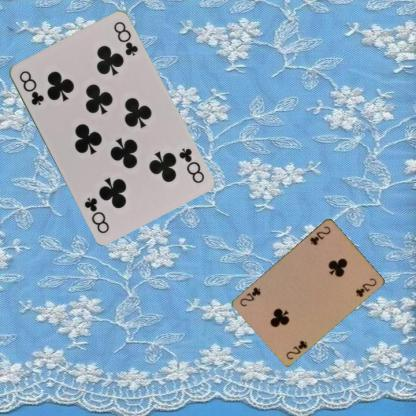2c: (307, 223, 332, 246), (284, 338, 308, 360)
8c: (16, 67, 45, 107), (176, 145, 205, 184)
